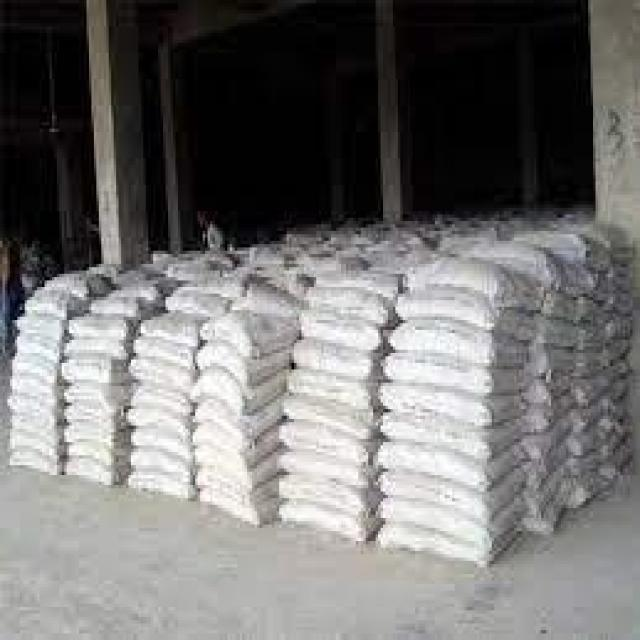gunny_bag: (402, 283, 537, 340), (382, 471, 523, 523), (421, 252, 542, 309), (386, 407, 519, 458), (396, 319, 531, 366), (383, 384, 494, 433), (387, 359, 528, 395), (378, 446, 483, 492), (189, 370, 287, 415), (207, 302, 296, 349), (287, 397, 369, 444), (383, 526, 481, 565), (294, 338, 377, 383), (199, 351, 289, 388), (475, 240, 565, 277), (313, 283, 396, 321), (281, 427, 366, 464), (282, 479, 366, 516), (288, 369, 367, 406), (195, 475, 276, 511), (527, 480, 571, 542), (198, 446, 251, 492), (140, 309, 204, 347), (169, 283, 234, 319), (303, 315, 376, 347), (131, 429, 194, 464), (528, 391, 574, 438), (532, 440, 569, 496), (198, 406, 250, 443), (134, 381, 188, 416), (133, 450, 190, 481), (69, 309, 129, 337), (29, 286, 81, 318), (134, 342, 188, 371), (576, 371, 611, 410), (62, 362, 112, 387), (560, 266, 598, 298), (537, 348, 574, 378), (575, 470, 603, 509), (64, 461, 110, 483), (550, 295, 590, 319), (574, 424, 601, 459), (20, 340, 60, 362), (66, 427, 110, 447), (541, 323, 577, 347), (10, 400, 50, 421), (605, 316, 631, 341)
